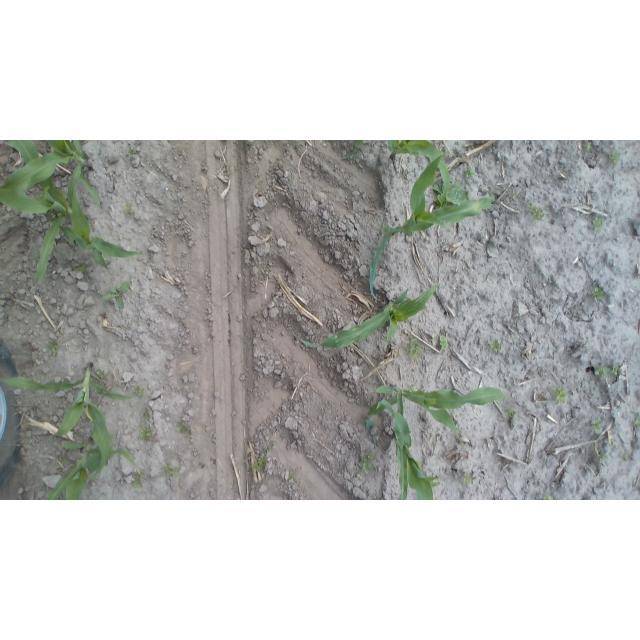Maize: (369, 153, 499, 305), (0, 362, 136, 487), (13, 160, 146, 281), (297, 280, 442, 353), (368, 381, 507, 452), (0, 140, 104, 232), (372, 386, 437, 500), (44, 435, 139, 499), (386, 141, 455, 212), (340, 141, 365, 162)
Weeds: (432, 182, 468, 208), (101, 280, 131, 309), (526, 202, 549, 222), (404, 335, 422, 359), (358, 453, 375, 477), (345, 142, 364, 162), (551, 386, 569, 405), (588, 285, 606, 304), (163, 462, 182, 478), (174, 421, 194, 436), (131, 469, 145, 490), (252, 455, 267, 473), (140, 424, 155, 441), (590, 416, 603, 434), (591, 216, 605, 232), (489, 339, 503, 354), (595, 363, 610, 377), (47, 340, 60, 356), (264, 439, 278, 453), (609, 150, 622, 165), (122, 201, 135, 215), (75, 260, 88, 274), (439, 335, 450, 351), (94, 368, 107, 381), (462, 472, 474, 485), (610, 363, 621, 377), (287, 467, 297, 482), (142, 408, 154, 420), (133, 386, 146, 397), (462, 166, 476, 176), (511, 185, 518, 204), (539, 493, 558, 500), (125, 147, 137, 158), (598, 452, 609, 463), (582, 142, 594, 152), (506, 407, 516, 419), (60, 455, 69, 468), (407, 382, 417, 392), (262, 268, 270, 280), (620, 455, 629, 464), (632, 416, 638, 428)
